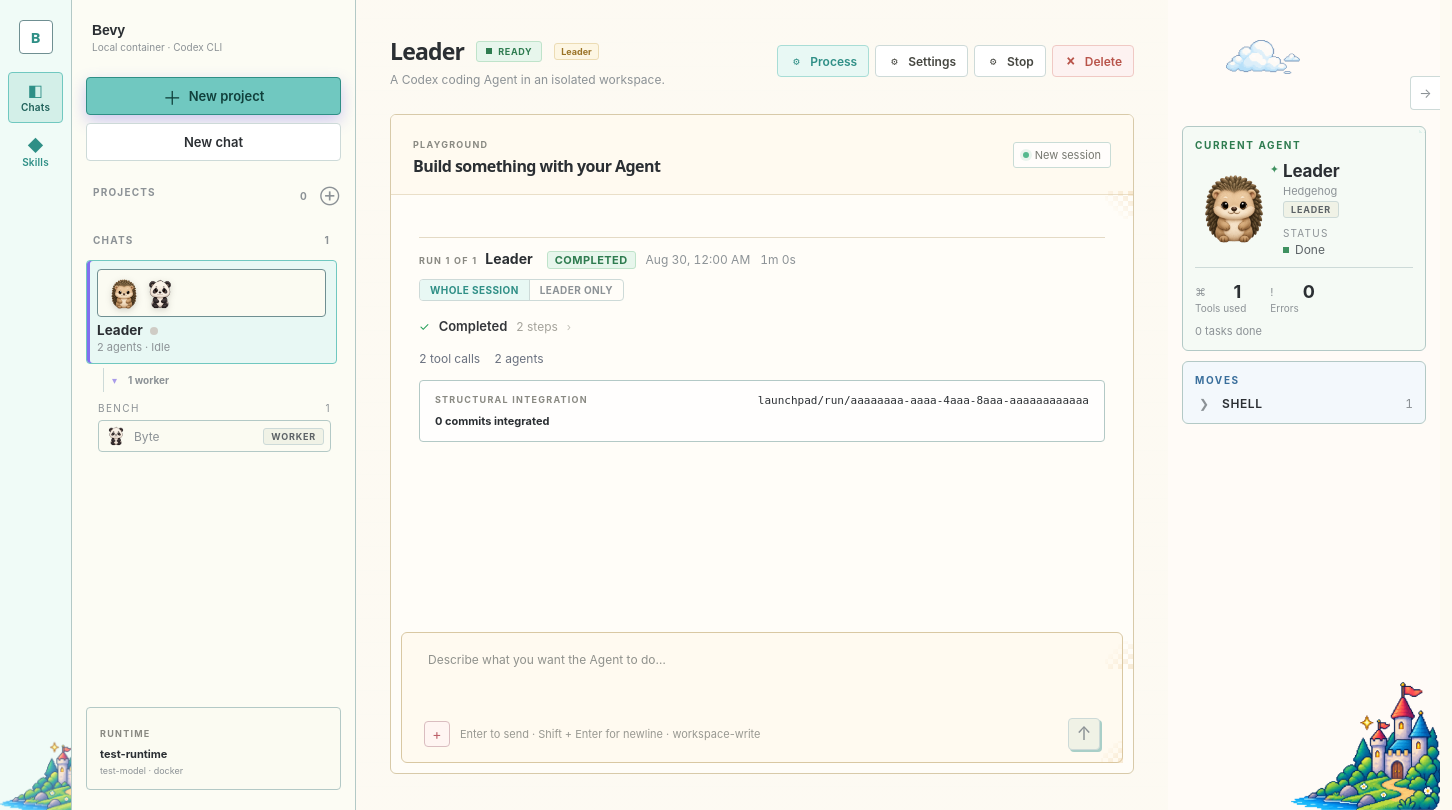
Scenario: the agent panel › collapses from the stable viewport control
Check: the heading "Leader" next to "ready" is shown, box [390,35,464,67]
Check: the element with class "rail" is shown, box [1168,0,1440,809]
Click the button named "Hide the agent panel": (1425, 93) [1410,76,1440,110]
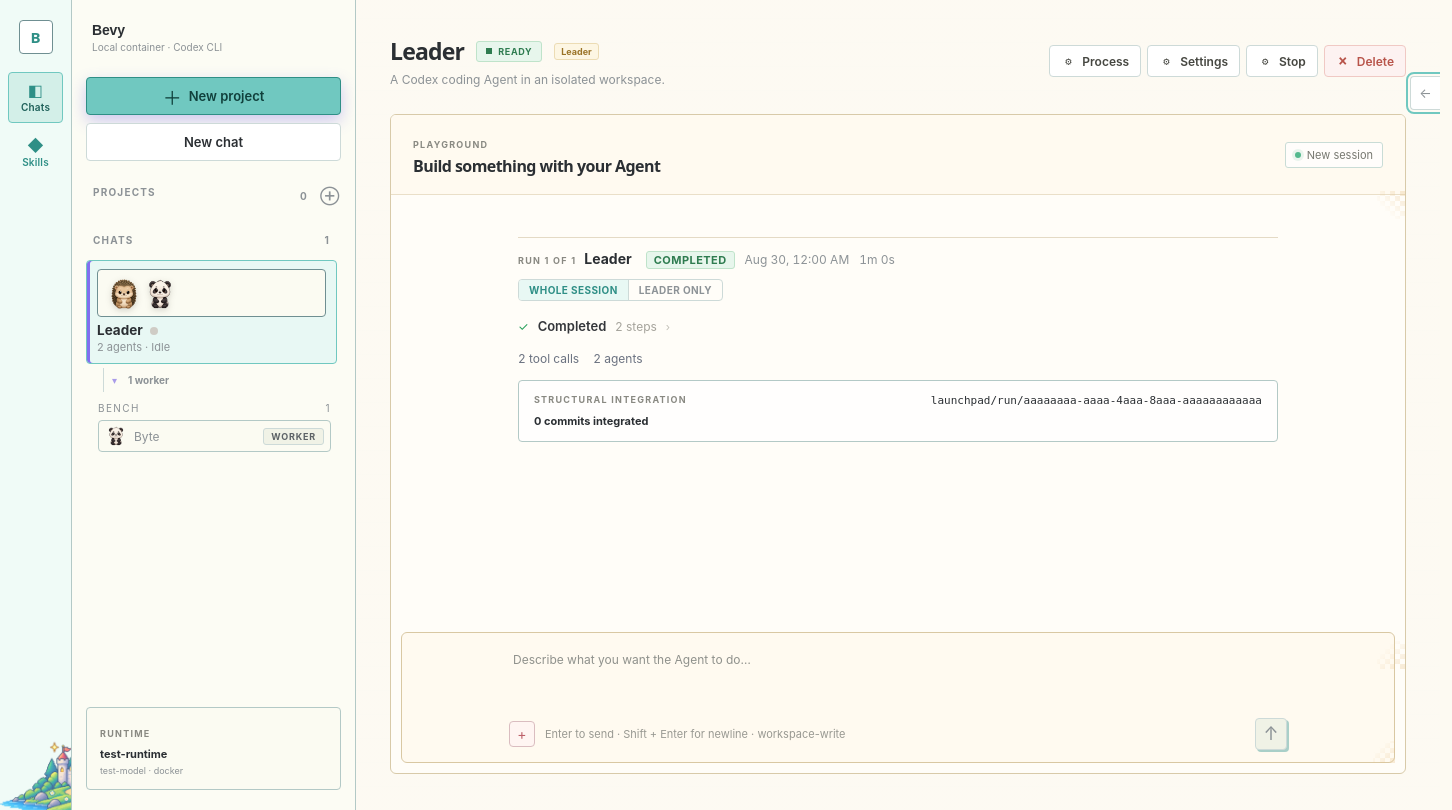
Check: the element with class "rail" is gone
